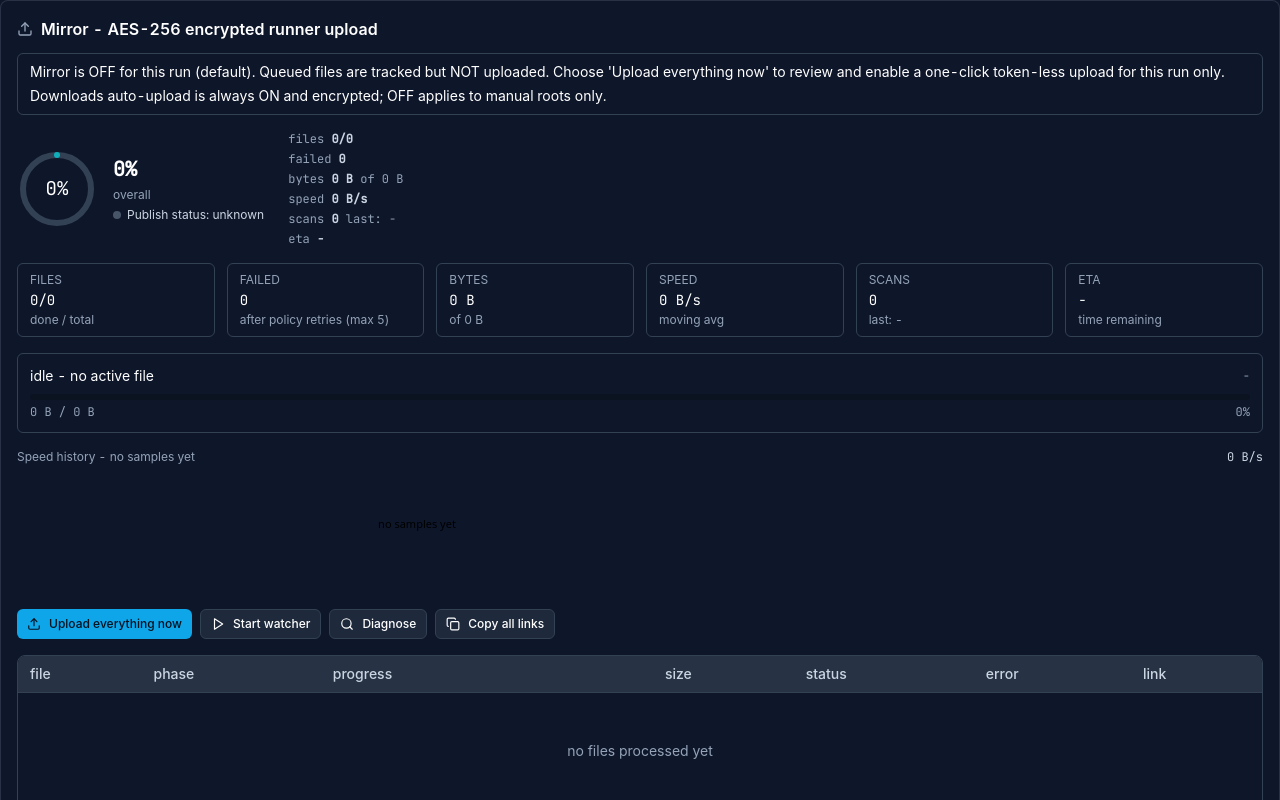
Scenario: F49 disabled banner + ConfirmModal › opens the ConfirmModal FIRST on click when disabled (no flush, no enable yet)
Expected: the message with test id "mirror-disabled-banner" is shown, 17,53 -> 1263,115
Step 1. Click the button "Upload everything now" → (104, 624), box 17,609 -> 192,639
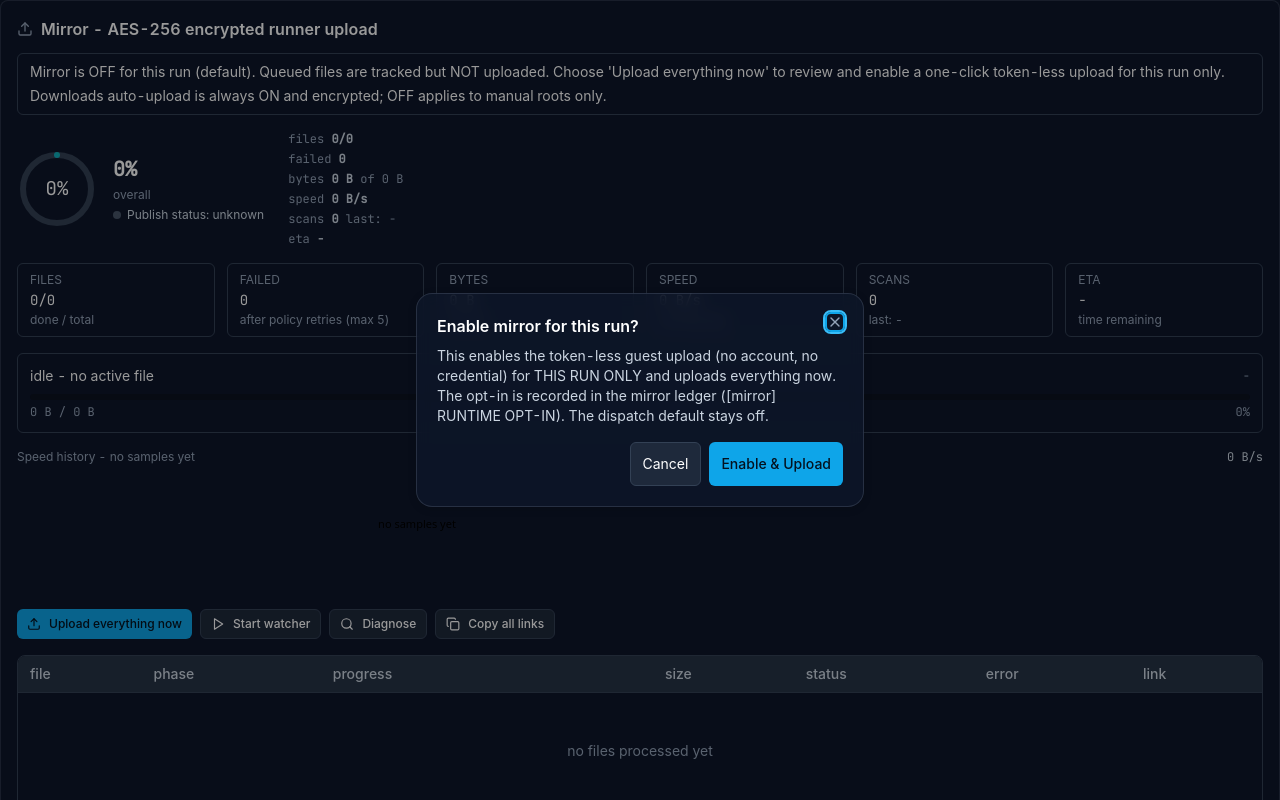
Expected: the heading "Enable mirror for this run?" is shown, 437,314 -> 639,338
Expected: the button "Enable & Upload" is shown, 709,442 -> 843,486
Expected: the button "Cancel" is shown, 630,442 -> 701,486
